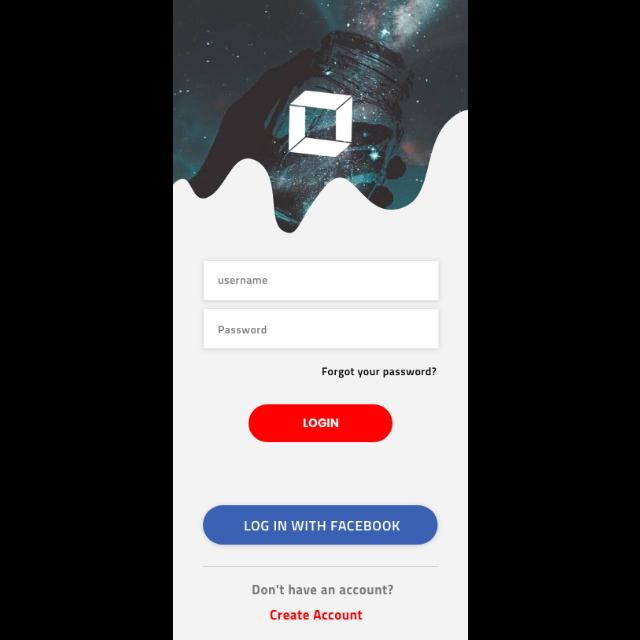image: (173, 0, 467, 234), (288, 91, 352, 157)
input: (204, 261, 438, 301), (204, 309, 438, 349)
text: (252, 584, 393, 596), (322, 368, 436, 378), (270, 610, 362, 620), (218, 278, 268, 286), (218, 325, 266, 333)
textbutton: (203, 506, 437, 544), (248, 405, 392, 443)
